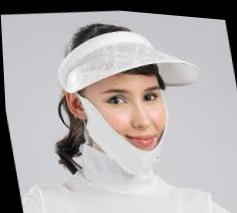WRONG: (86, 73, 175, 168)
